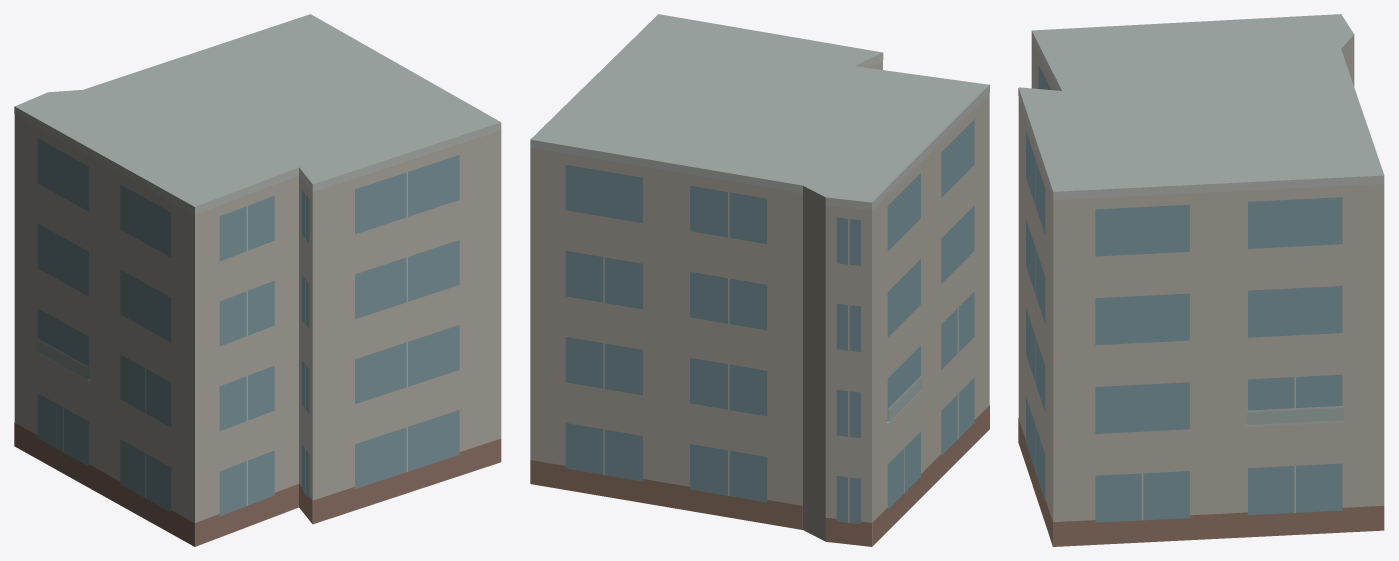
File: survey-upis-32524221.glb
3 renders of one model, left to right at view 1: azimuth 30°, elevation 25°; view 2: azimuth 150°, elevation 25°; view 3: azimuth 270°, elevation 25°, orthographic. The views are drawn at different scales.
Visible parts, largest first — view 1: survey-upis-32524221.tmp; view 2: survey-upis-32524221.tmp; view 3: survey-upis-32524221.tmp.
Part boxes in pixels (box(x1,y1,x2,y2)): survey-upis-32524221.tmp: box(14, 14, 501, 546); survey-upis-32524221.tmp: box(530, 14, 989, 546); survey-upis-32524221.tmp: box(1018, 14, 1384, 546).
Bounding box in the file's own units: 11.29 × 10.5 × 9.82.
